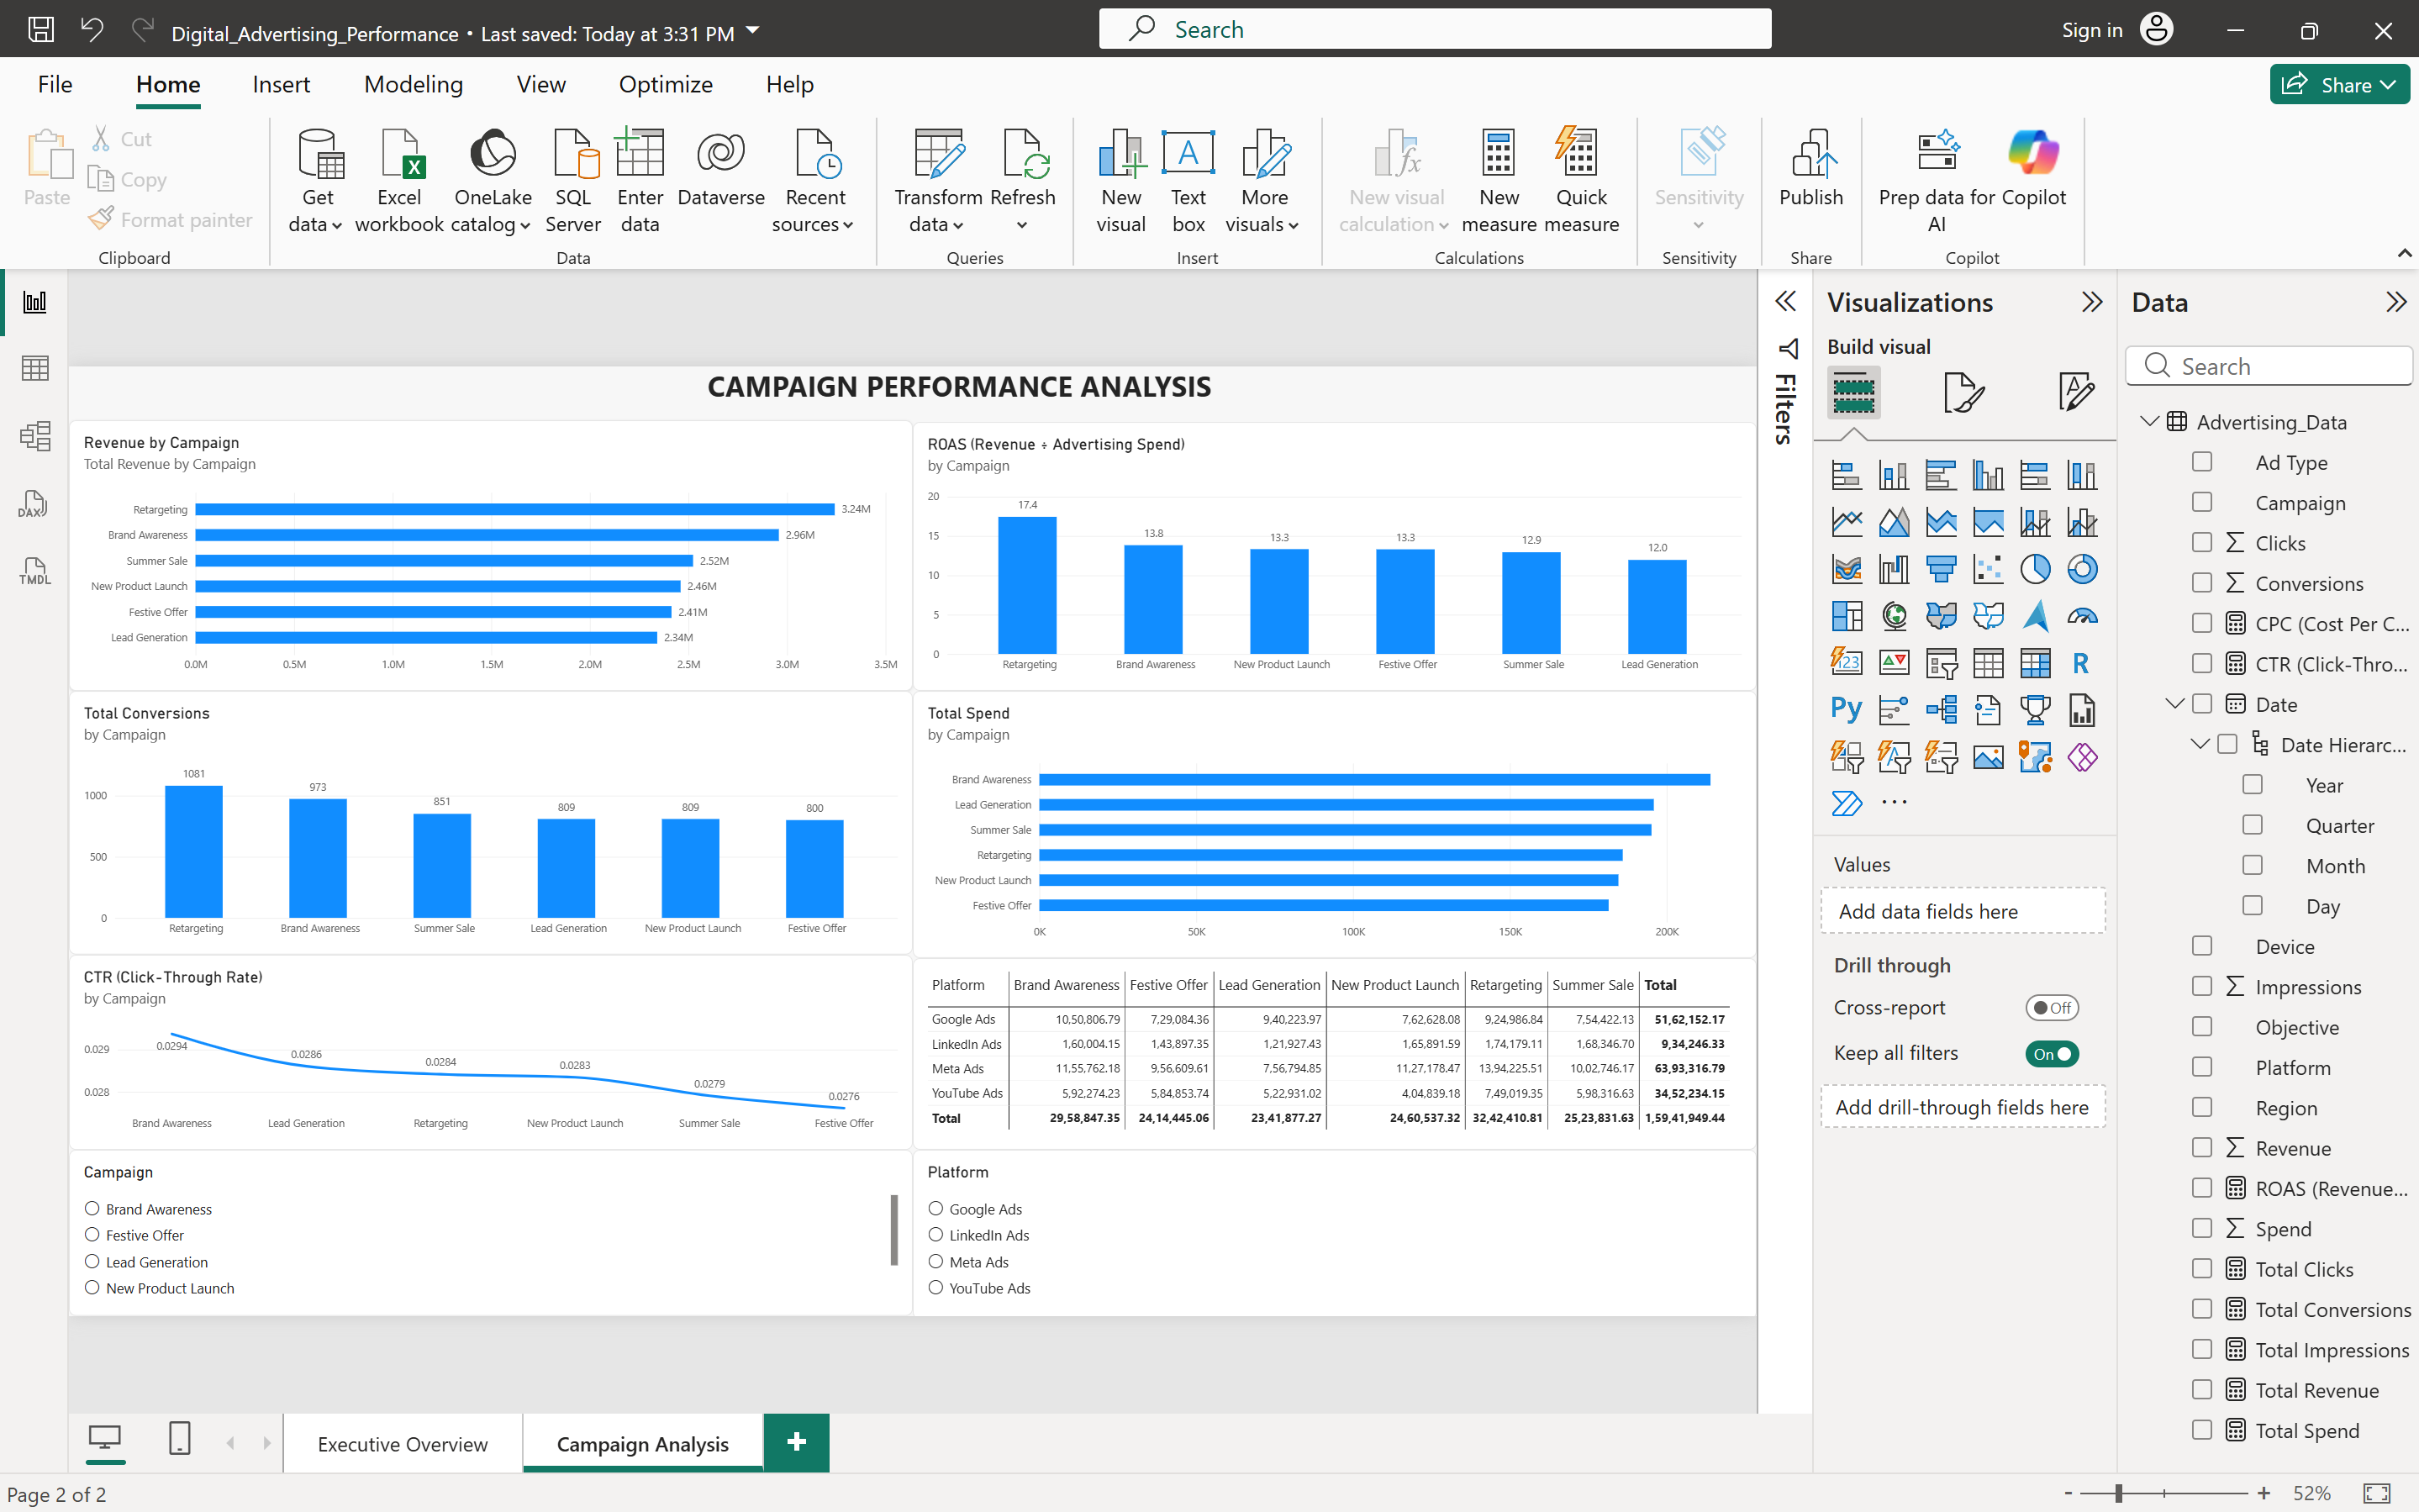

The dashboard page shown, as its layout file describes it:
{"tool":"powerbi","page":{"name":"Campaign Analysis","canvas":[1920,1080],"ordinal":1},"visuals":[{"type":"textbox","box":[298.3,0,1430.4,61.2],"z":0},{"type":"clusteredBarChart","title":"Revenue by Campaign","fields":{"Category":["Advertising_Data.Campaign"],"Y":["Advertising_Data.Total Revenue"]},"box":[0,61.2,960,307.9],"z":1000},{"type":"clusteredBarChart","fields":{"Category":["Advertising_Data.Campaign"],"Y":["Advertising_Data.Total Spend"]},"box":[960,369.1,960,304.1],"z":2000},{"type":"clusteredColumnChart","fields":{"Category":["Advertising_Data.Campaign"],"Y":["Advertising_Data.Total Conversions"]},"box":[0,369.1,960,300.2],"z":3000},{"type":"clusteredColumnChart","fields":{"Category":["Advertising_Data.Campaign"],"Y":["Advertising_Data.ROAS (Revenue ÷ Advertising Spend)"]},"box":[960,63.1,960,306],"z":4000},{"type":"lineChart","fields":{"Category":["Advertising_Data.Campaign"],"Y":["Advertising_Data.CTR (Click-Through Rate)"]},"box":[0,669.3,960,221.8],"z":5000},{"type":"pivotTable","fields":{"Columns":["Advertising_Data.Campaign"],"Rows":["Advertising_Data.Platform"],"Values":["Advertising_Data.Total Revenue"]},"box":[960,673.1,960,218],"z":6000},{"type":"listSlicer","fields":{"Values":["Advertising_Data.Platform"]},"box":[960,891.2,960,193.1],"z":6001},{"type":"listSlicer","fields":{"Values":["Advertising_Data.Campaign"]},"box":[0,891,960,189],"z":6002}]}

Visuals, with their boxes on the page's 1920x1080 design canvas (x1, y1, x2, y2). These are canvas units, not pixel positions in the 2419x1512 screenshot, which may show the page scaled, cropped or inside an application window:
textbox: select_region(298, 0, 1729, 61)
"Revenue by Campaign" clusteredBarChart: select_region(0, 61, 960, 369)
clusteredBarChart - Advertising_Data.Campaign x Advertising_Data.Total Spend: select_region(960, 369, 1920, 673)
clusteredColumnChart - Advertising_Data.Campaign x Advertising_Data.Total Conversions: select_region(0, 369, 960, 669)
clusteredColumnChart - Advertising_Data.Campaign x Advertising_Data.ROAS (Revenue ÷ Advertising Spend): select_region(960, 63, 1920, 369)
lineChart - Advertising_Data.Campaign x Advertising_Data.CTR (Click-Through Rate): select_region(0, 669, 960, 891)
pivotTable - Advertising_Data.Campaign x Advertising_Data.Platform: select_region(960, 673, 1920, 891)
listSlicer - Advertising_Data.Platform: select_region(960, 891, 1920, 1084)
listSlicer - Advertising_Data.Campaign: select_region(0, 891, 960, 1080)
